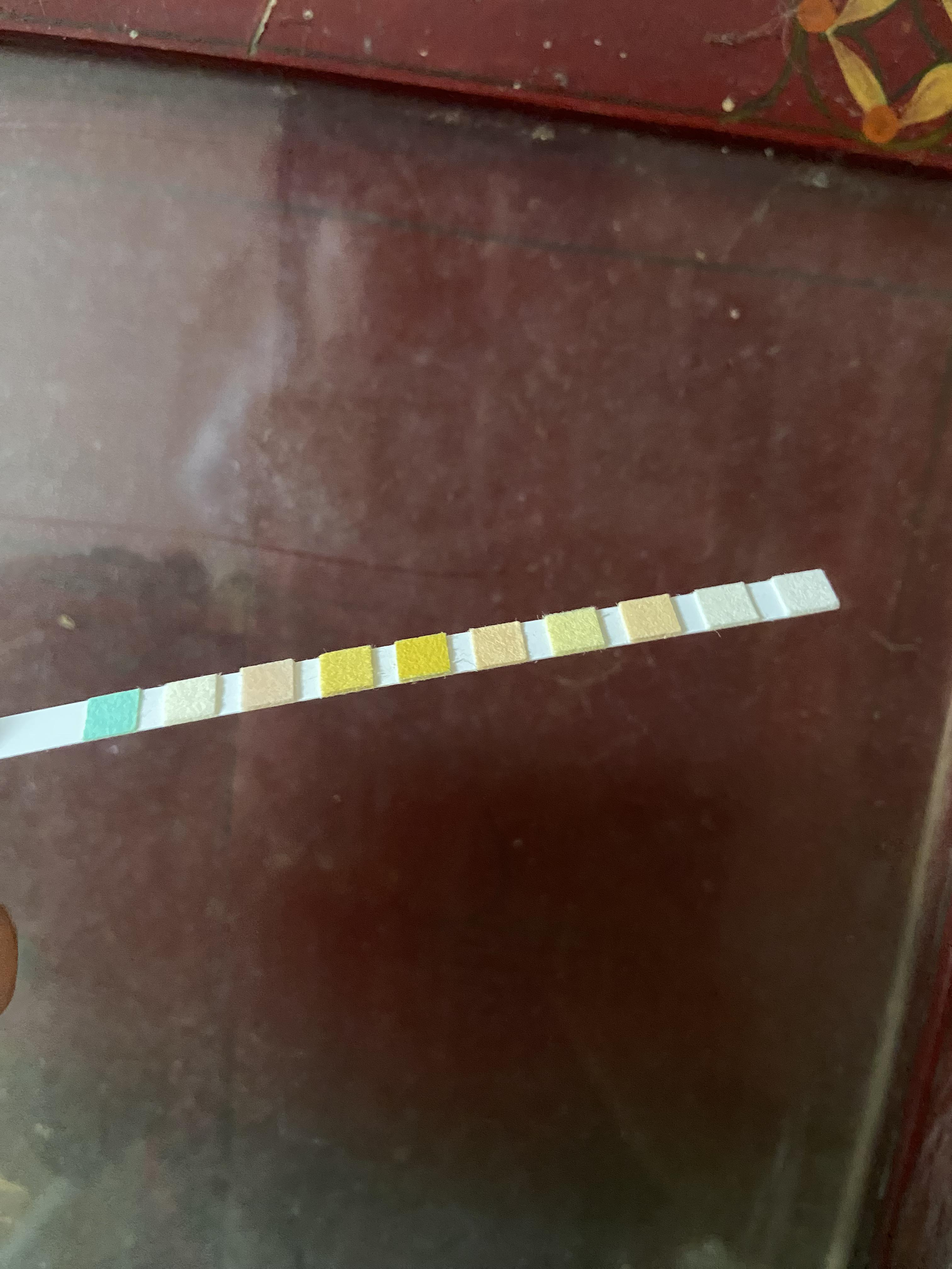Bilirubin: (166, 684, 213, 714)
Blood: (398, 641, 446, 671)
Glucose: (92, 700, 134, 732)
Ketone: (244, 669, 292, 698)
Leukocytes: (791, 575, 824, 610)
Nitrite: (707, 588, 745, 619)
Protein: (554, 615, 596, 646)
SpGravity: (321, 656, 370, 686)
Urobilinogen: (632, 600, 670, 633)
pH: (480, 629, 519, 660)
strip: (0, 569, 841, 760)
